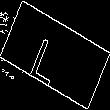L_NE: (35, 25, 75, 85)
